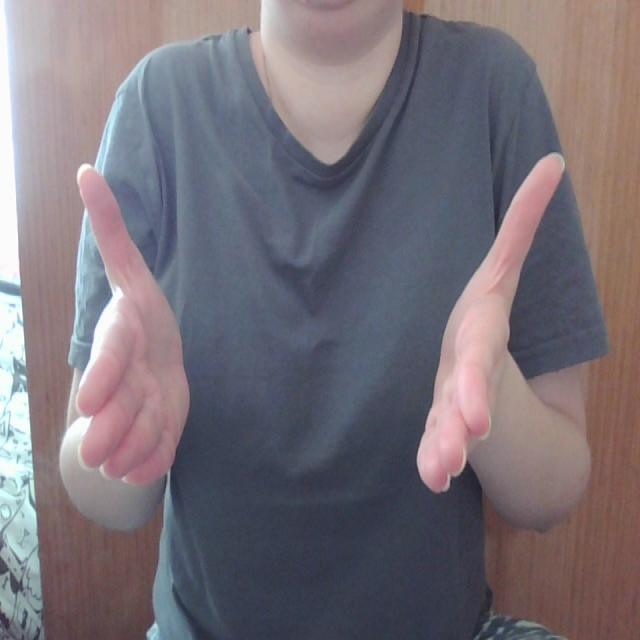Nasil: (72, 147, 579, 494)
